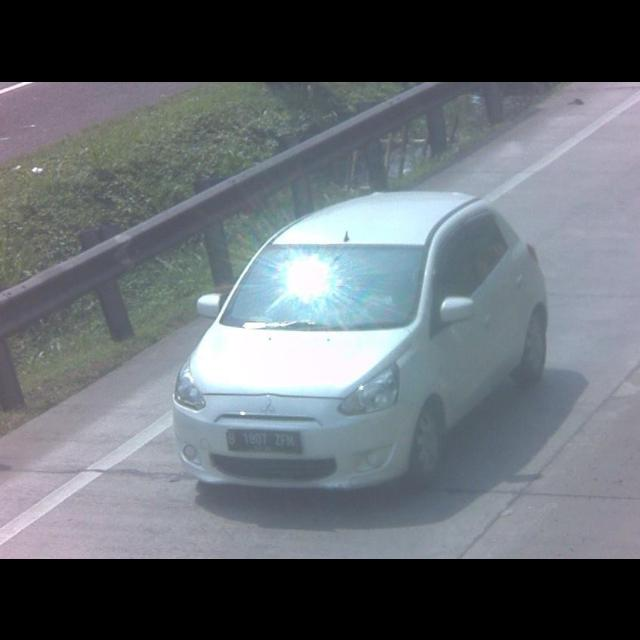plate: (225, 427, 301, 455)
